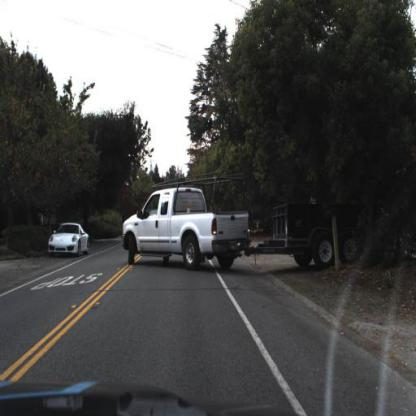car: (124, 186, 371, 263), (49, 222, 88, 257)
